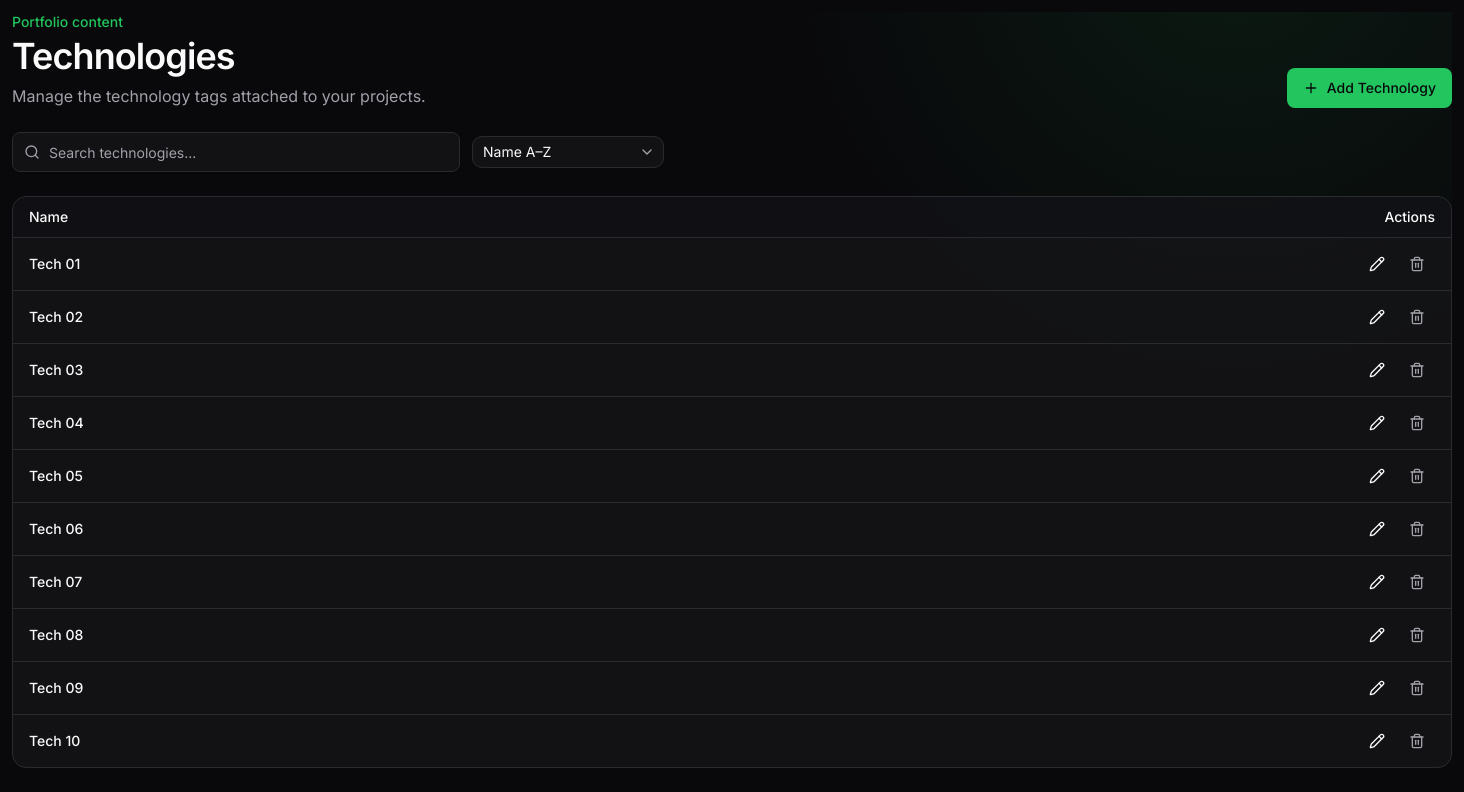
Test: TechnologyView › sorts by name descending and writes ?sort=name-desc
This screenshot has width=1464, height=792.
Step 1. Click the dropdown named "Sort" → (568, 152), box [472, 136, 664, 168]
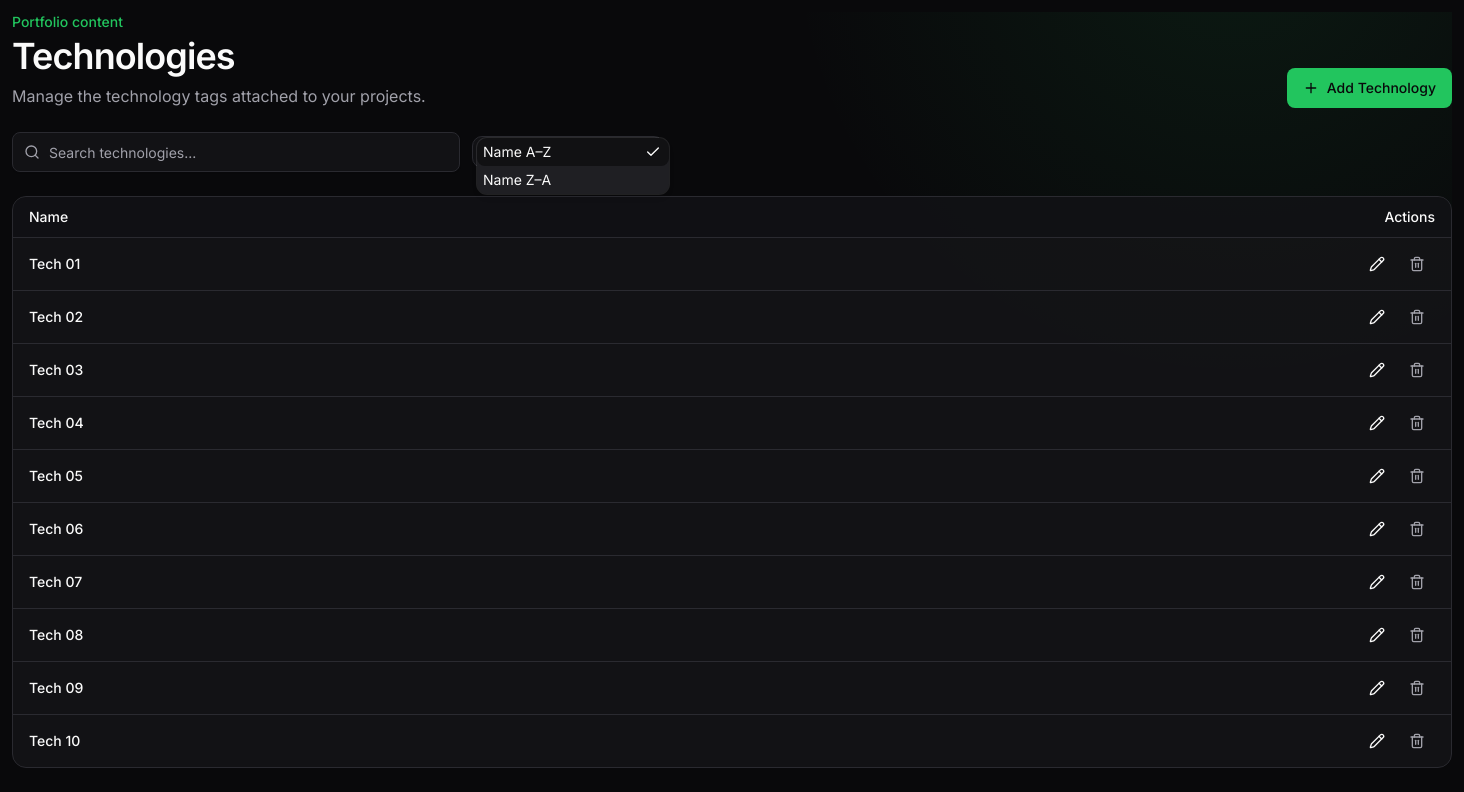
Step 2. Click the option "Name Z–A" → (517, 180), box [483, 171, 551, 188]
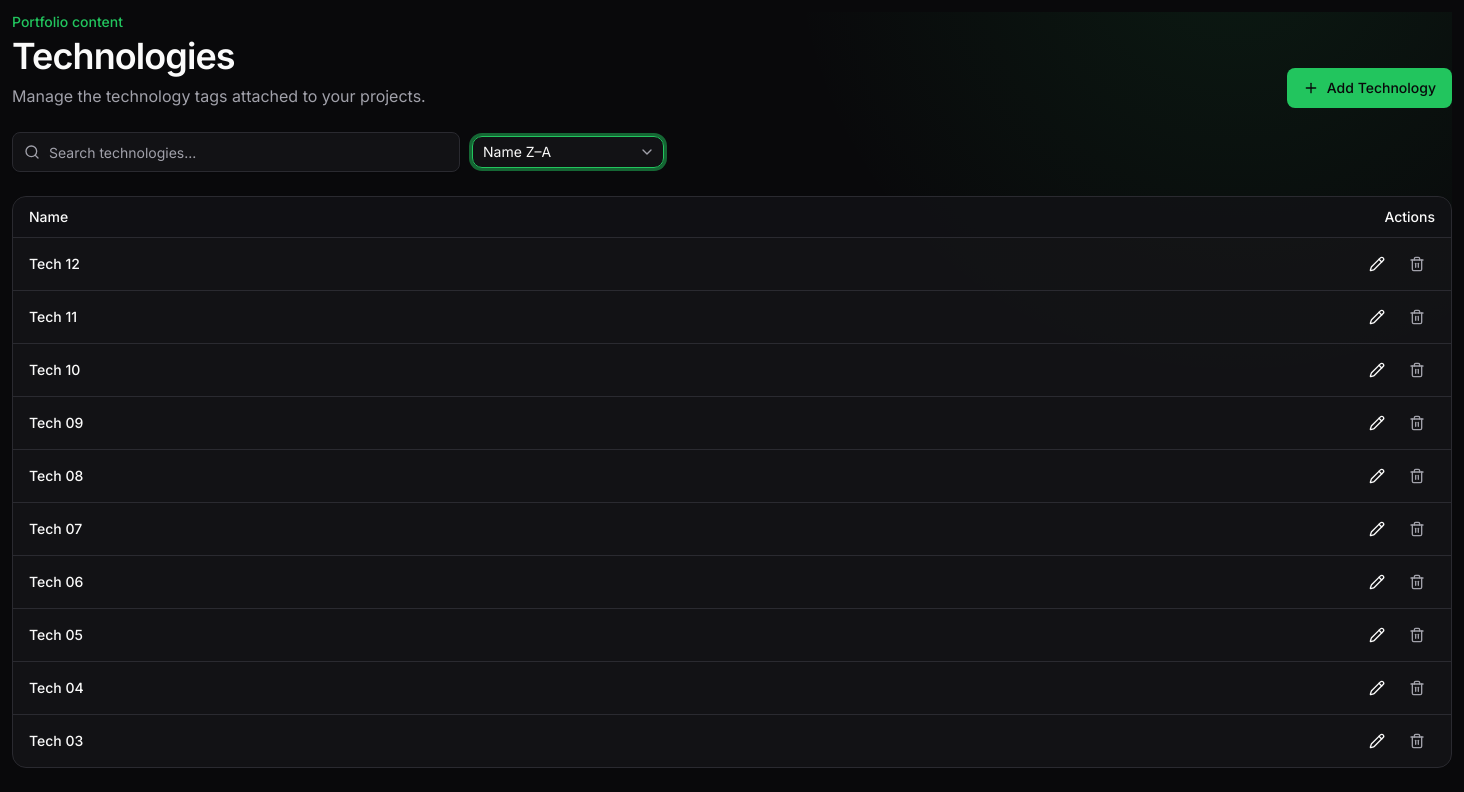
Check: the text "Tech 12" is shown, box [13, 237, 646, 290]
